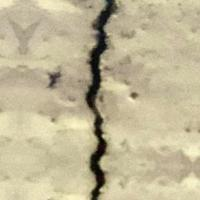crack: (64, 0, 128, 199)
